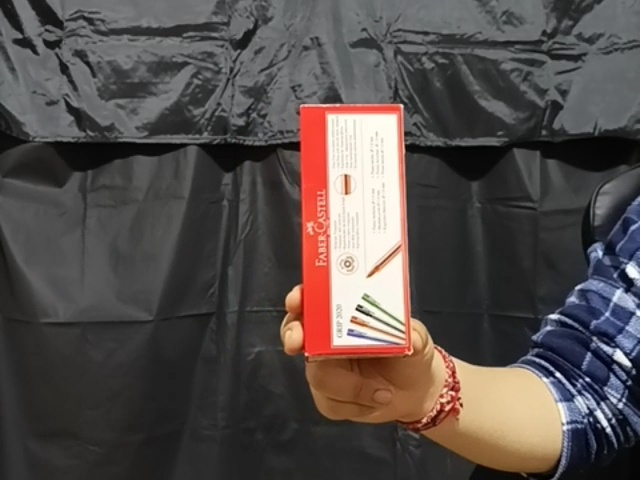xd: (297, 101, 413, 359)
